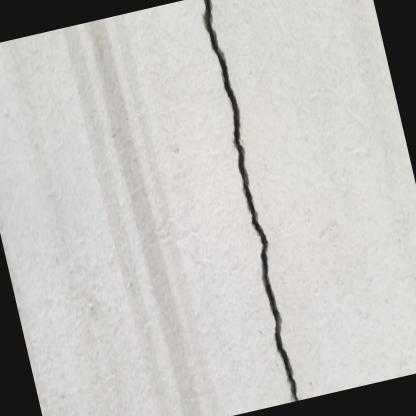crack: (204, 0, 299, 401)
